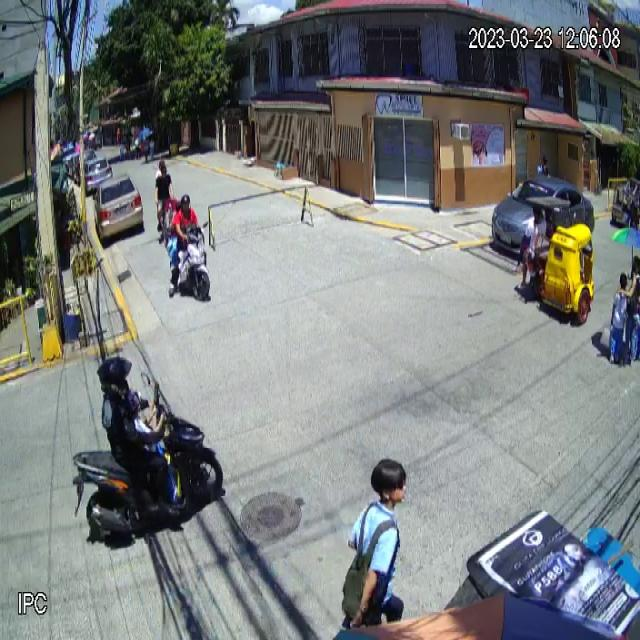Motorcycle: (72, 374, 223, 546), (168, 220, 210, 304)
Tricycle: (518, 194, 595, 324)
